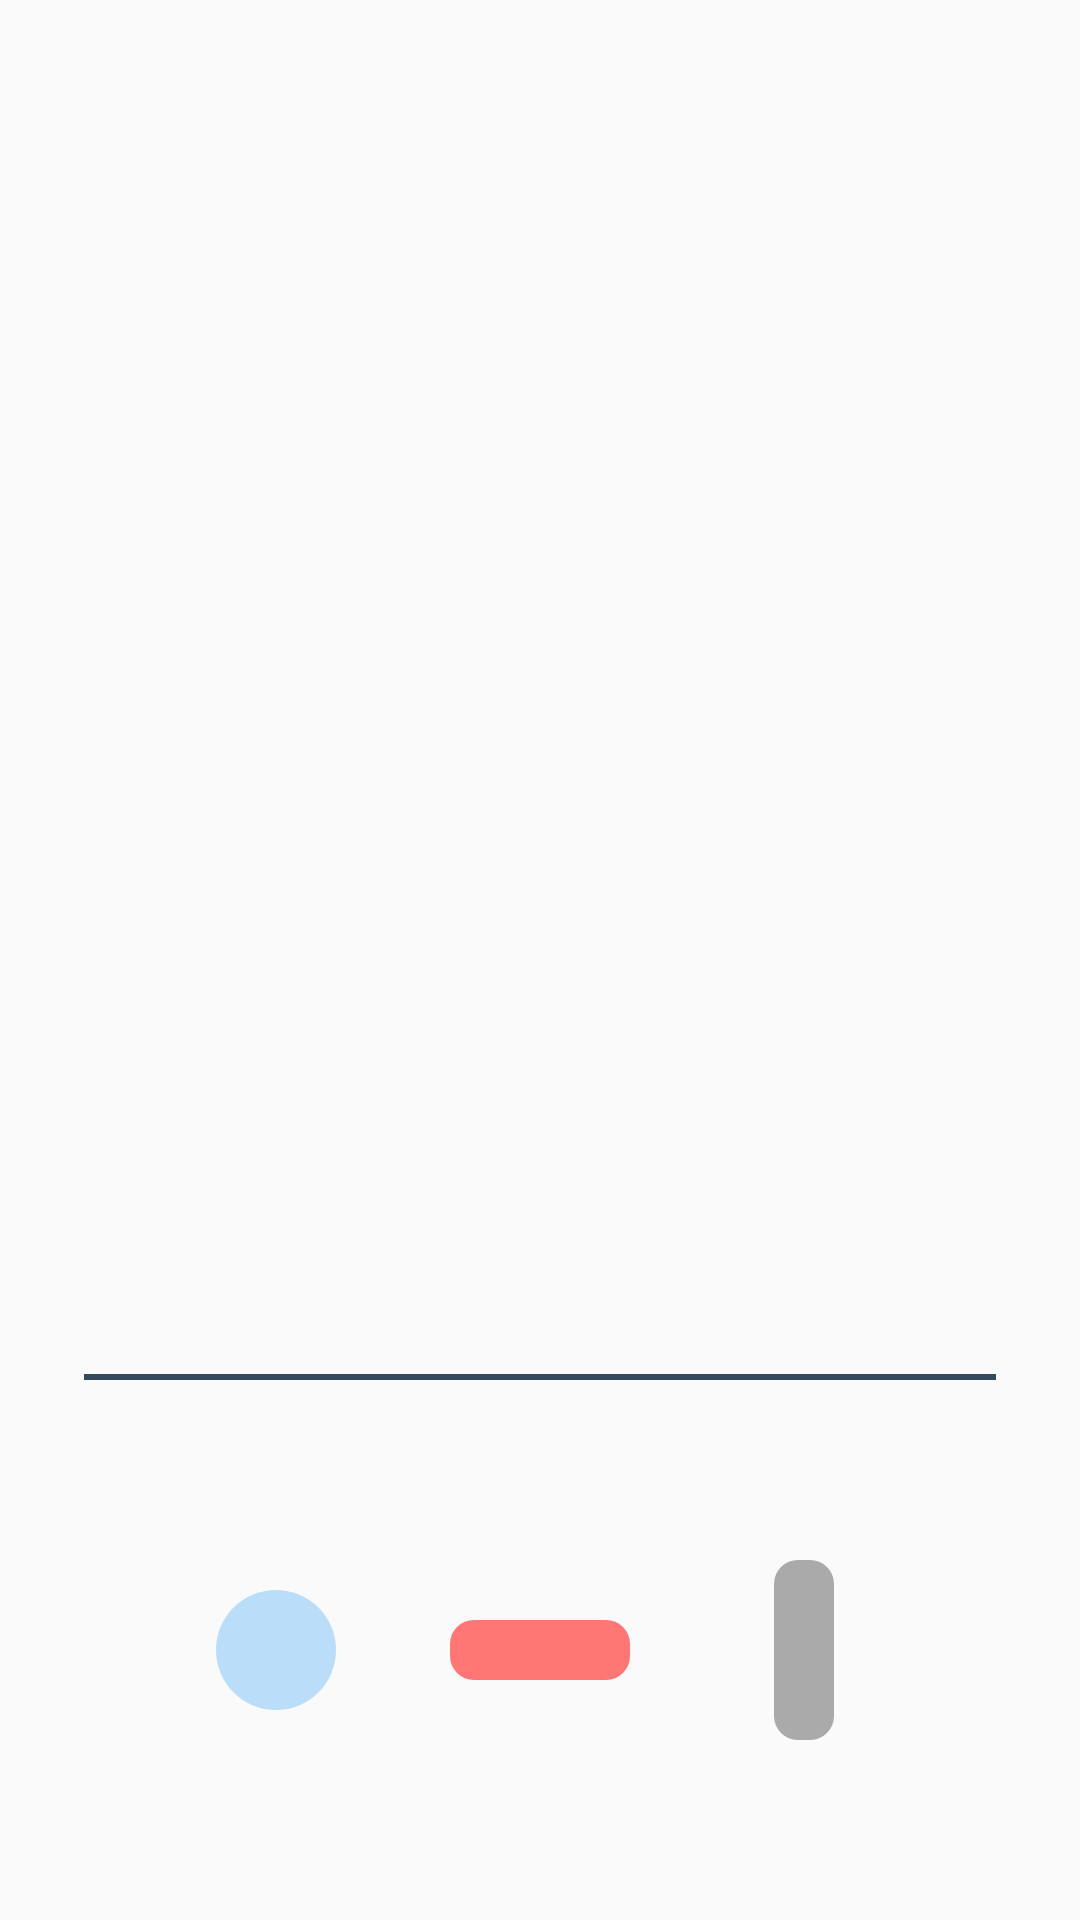

Where icons sit on this 1080w x 1920h app screen, as bbox(x1, y1, x2, y2):
dash: bbox(450, 1620, 630, 1680)
